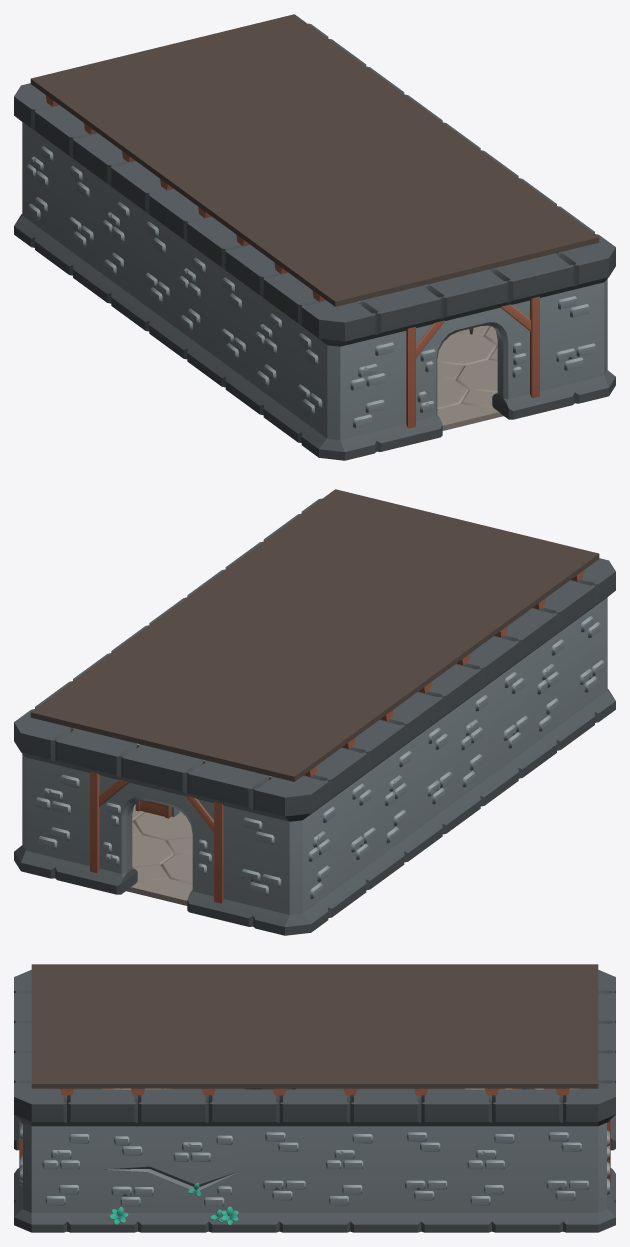
Rendered from coridor1.glb.
3 views of the same model, one above another, from view 1: azimuth 30°, elevation 25°; view 2: azimuth 150°, elevation 25°; view 3: azimuth 270°, elevation 25° (orthographic). The views are drawn at different scales.
Visible parts, largest first — view 1: wall_corner.002, wall_doorway_scaffold.001, wall.001, wall_shelves, wall, ceiling_tile.002, wall_corner.003, ceiling_tile.001, ceiling_tile.007, ceiling_tile.006, ceiling_tile.003, ceiling_tile.005 (+5 smaller); view 2: wall_corner.001, wall_doorway_scaffold, wall, wall_shelves, wall.001, ceiling_tile.006, wall_corner.004, ceiling_tile.004, ceiling_tile.003, ceiling_tile.002, ceiling_tile.007, ceiling_tile (+4 smaller); view 3: wall_shelves.001, wall_cracked, wall.004, wall_corner.004, wall_corner.003, ceiling_tile.001, ceiling_tile.004, ceiling_tile, ceiling_tile.005, ceiling_tile.002, ceiling_tile.006, ceiling_tile.003 (+5 smaller).
Part boxes in pixels (left/top/right/bottom): wall_corner.002: left=280, top=285, right=410, bottom=460; wall_doorway_scaffold.001: left=393, top=261, right=542, bottom=444; wall.001: left=204, top=230, right=305, bottom=429; wall_shelves: left=128, top=174, right=229, bottom=373; wall: left=52, top=118, right=152, bottom=317; ceiling_tile.002: left=259, top=214, right=467, bottom=306; wall_corner.003: left=525, top=219, right=615, bottom=412; ceiling_tile.001: left=391, top=181, right=599, bottom=274; ceiling_tile.007: left=106, top=102, right=314, bottom=194; ceiling_tile.006: left=30, top=46, right=238, bottom=139; ceiling_tile.003: left=183, top=158, right=390, bottom=250; ceiling_tile.005: left=239, top=70, right=446, bottom=157; wall_corner.001: left=219, top=760, right=349, bottom=935; wall_doorway_scaffold: left=87, top=736, right=236, bottom=919; wall: left=324, top=705, right=425, bottom=904; wall_shelves: left=400, top=649, right=501, bottom=848; wall.001: left=477, top=593, right=577, bottom=792; ceiling_tile.006: left=162, top=689, right=370, bottom=781; wall_corner.004: left=14, top=694, right=104, bottom=887; ceiling_tile.004: left=30, top=656, right=238, bottom=749; ceiling_tile.003: left=315, top=577, right=523, bottom=669; ceiling_tile.002: left=391, top=521, right=599, bottom=614; ceiling_tile.007: left=239, top=633, right=446, bottom=725; ceiling_tile: left=183, top=545, right=390, bottom=632; wall_shelves.001: left=385, top=1089, right=527, bottom=1232; wall_cracked: left=102, top=1089, right=244, bottom=1232; wall.004: left=244, top=1089, right=385, bottom=1232; wall_corner.004: left=527, top=1067, right=615, bottom=1232; wall_corner.003: left=14, top=1067, right=102, bottom=1232; ceiling_tile.001: left=31, top=1024, right=173, bottom=1095; ceiling_tile.004: left=456, top=1024, right=598, bottom=1095; ceiling_tile: left=173, top=1024, right=314, bottom=1095; ceiling_tile.005: left=315, top=1024, right=456, bottom=1095; ceiling_tile.002: left=31, top=964, right=173, bottom=1023; ceiling_tile.006: left=456, top=964, right=598, bottom=1023; ceiling_tile.003: left=173, top=964, right=314, bottom=1023.
Bounding box in the file's own units: 9.13 × 4.5 × 17.
Materials: 20 (20 with a texture image).
